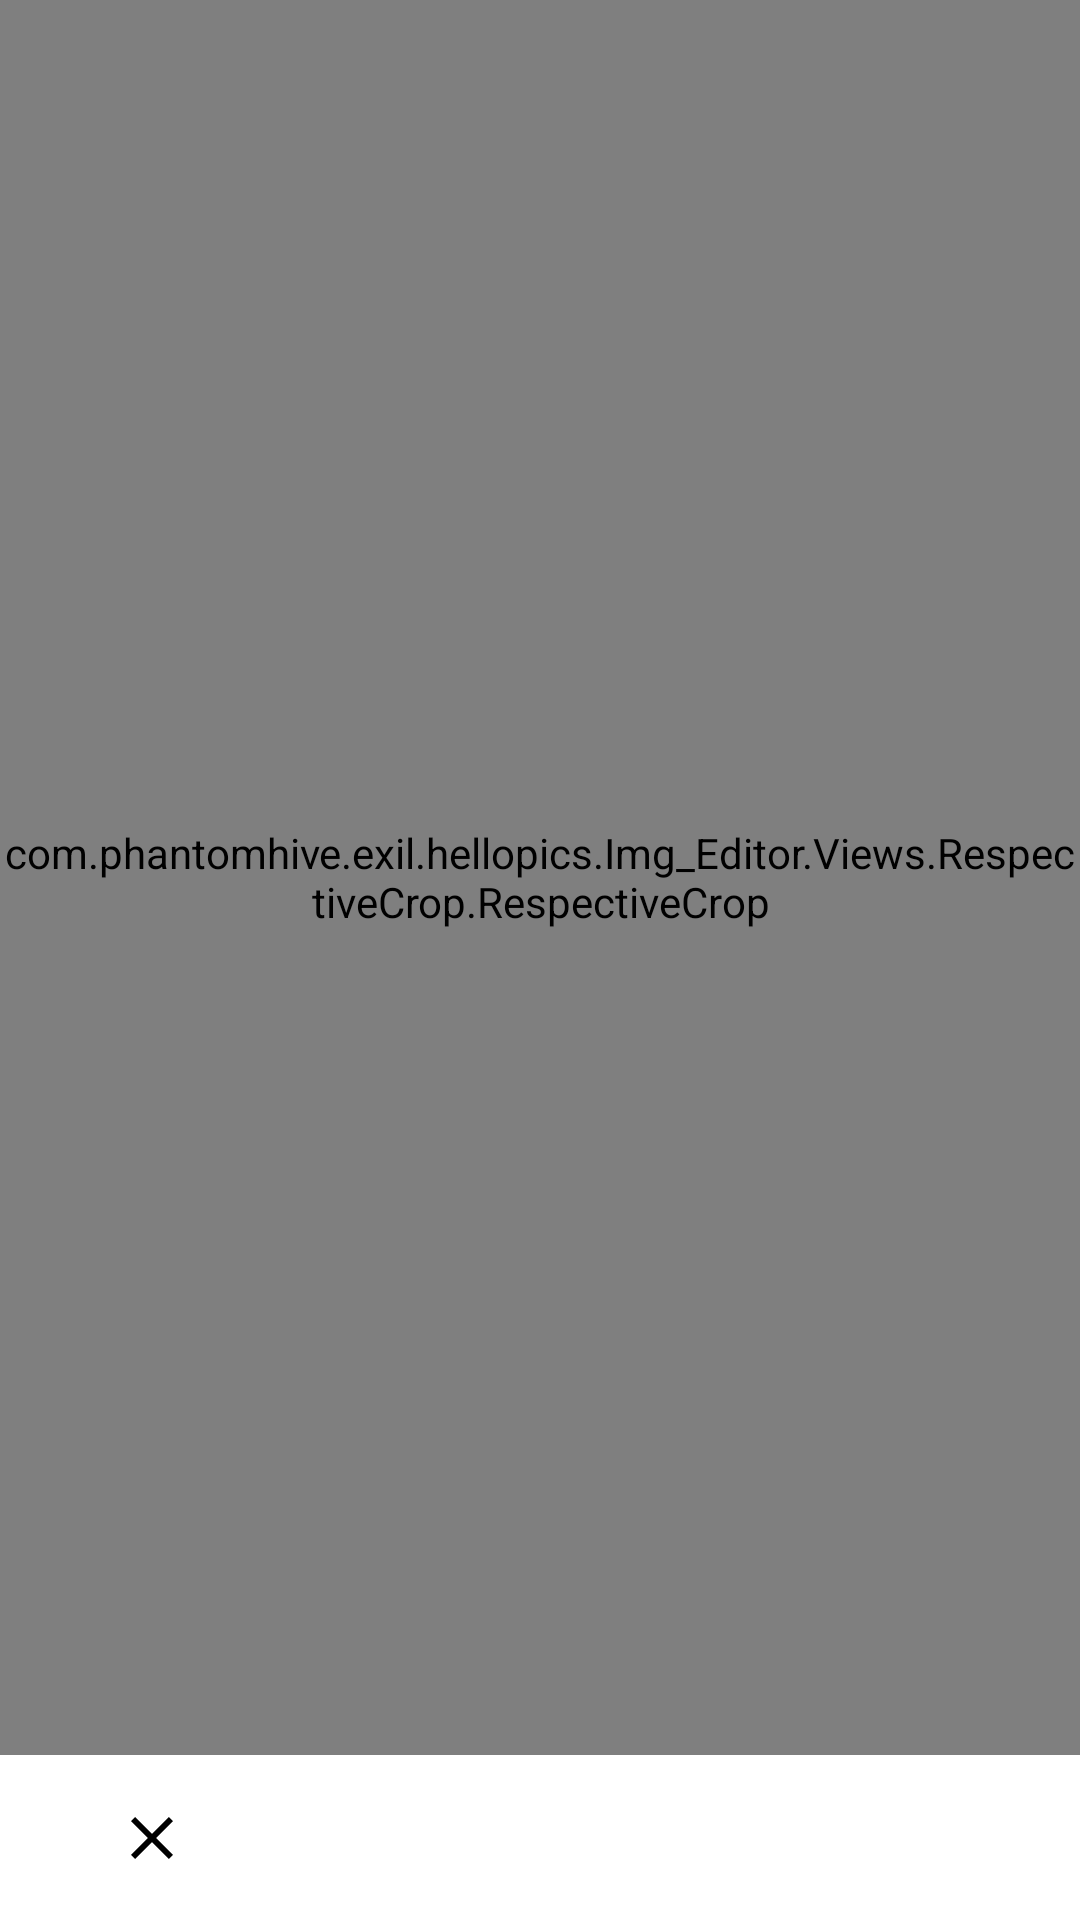

Icons on this 1080 × 1920 Android screen, each with its box as [x1,y1,x2,y2]:
close: [131,1817,173,1859]
